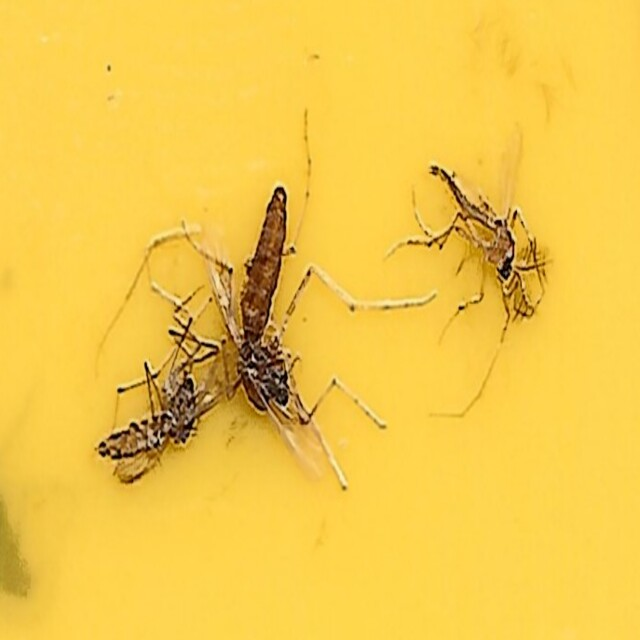Nematocera: (225, 183, 309, 435), (431, 155, 547, 327), (93, 355, 206, 485)
